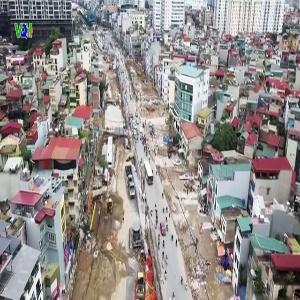drone: (49, 193, 128, 272)
